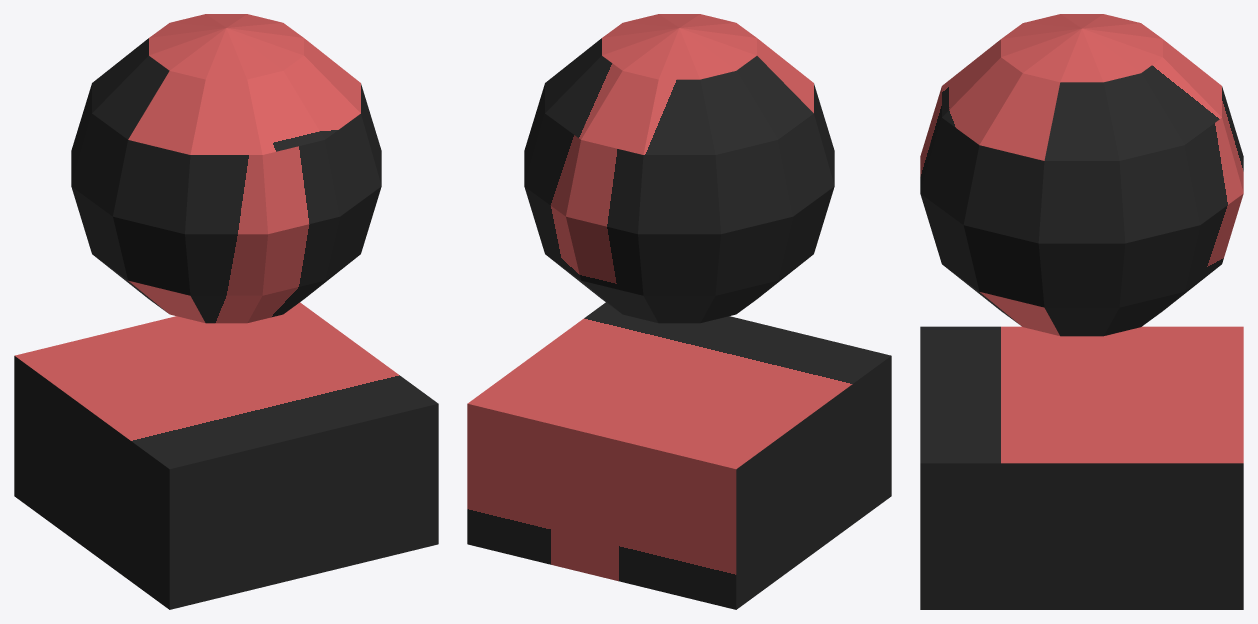
The model's file is Яйцелёт1 (2).glb.
The picture shows the model from 3 angles, left to right: view 1: azimuth 30°, elevation 25°; view 2: azimuth 150°, elevation 25°; view 3: azimuth 270°, elevation 25°; orthographic projection. The views are drawn at different scales.
Visible parts, largest first — view 1: cuboid, sphere; view 2: cuboid, sphere; view 3: cuboid, sphere.
Boxes of the visible parts, x1,y1,x2,y2 form: cuboid: (14,302,438,609); sphere: (71,14,381,323); cuboid: (467,302,891,609); sphere: (524,14,834,323); cuboid: (920,326,1243,609); sphere: (920,14,1243,336).
Bounding box in the file's own units: 1 × 1.75 × 1.
